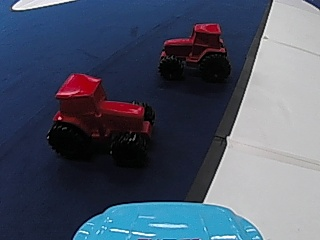tractor: (47, 66, 155, 164), (158, 20, 232, 83)
